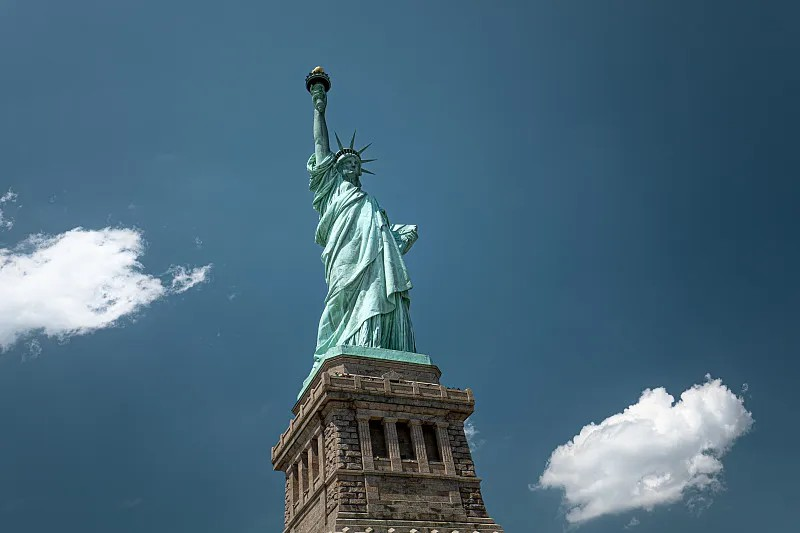SL: (270, 66, 502, 533)
